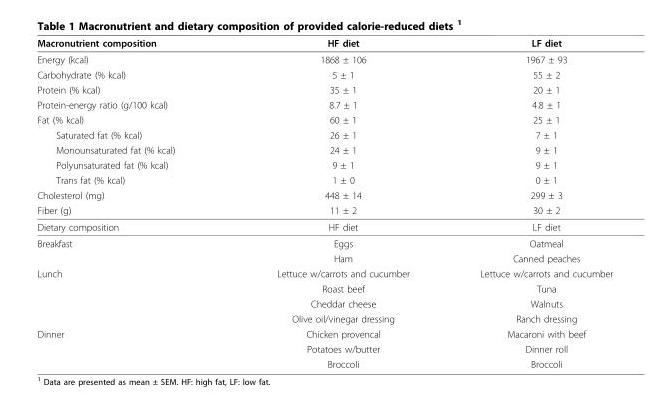table: (36, 36, 612, 369)
table column: (225, 36, 444, 369), (36, 36, 225, 369), (444, 36, 612, 369)
table column header: (36, 36, 612, 50)
table row: (36, 50, 612, 66), (36, 111, 612, 127), (36, 202, 612, 218), (36, 218, 612, 234), (36, 234, 612, 250), (36, 310, 612, 326), (36, 66, 612, 81), (36, 81, 612, 96), (36, 96, 612, 111), (36, 127, 612, 142), (36, 142, 612, 157), (36, 157, 612, 172), (36, 172, 612, 187), (36, 187, 612, 202), (36, 250, 612, 265), (36, 265, 612, 280), (36, 280, 612, 295), (36, 295, 612, 310), (36, 326, 612, 341), (36, 341, 612, 356), (36, 36, 612, 50), (36, 356, 612, 369)
table spanning cell: (36, 265, 225, 326), (36, 326, 225, 369), (36, 234, 225, 265)
